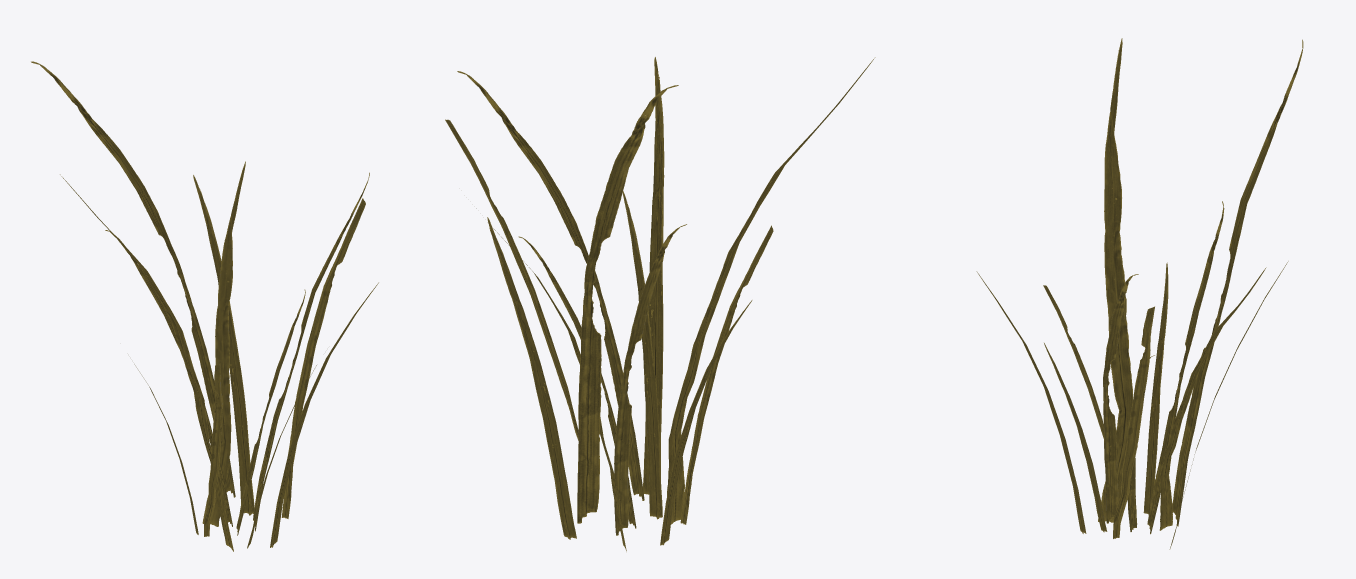
File: grass.obj
The picture shows the model from 3 angles, left to right: view 1: azimuth 30°, elevation 25°; view 2: azimuth 150°, elevation 25°; view 3: azimuth 270°, elevation 25°; orthographic projection. The views are drawn at different scales.
Visible parts, largest first — view 1: Foliage01_col; view 2: Foliage01_col; view 3: Foliage01_col.
Boxes of the visible parts, x1,y1,x2,y2 form: Foliage01_col: (31,61,378,551); Foliage01_col: (445,57,875,551); Foliage01_col: (976,38,1303,549).
Bounding box in the file's own units: 0.6356 × 0.8155 × 0.6161.
